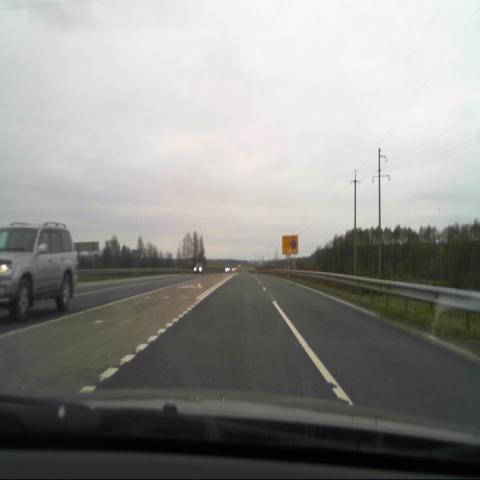3_27: (288, 237, 298, 253)
